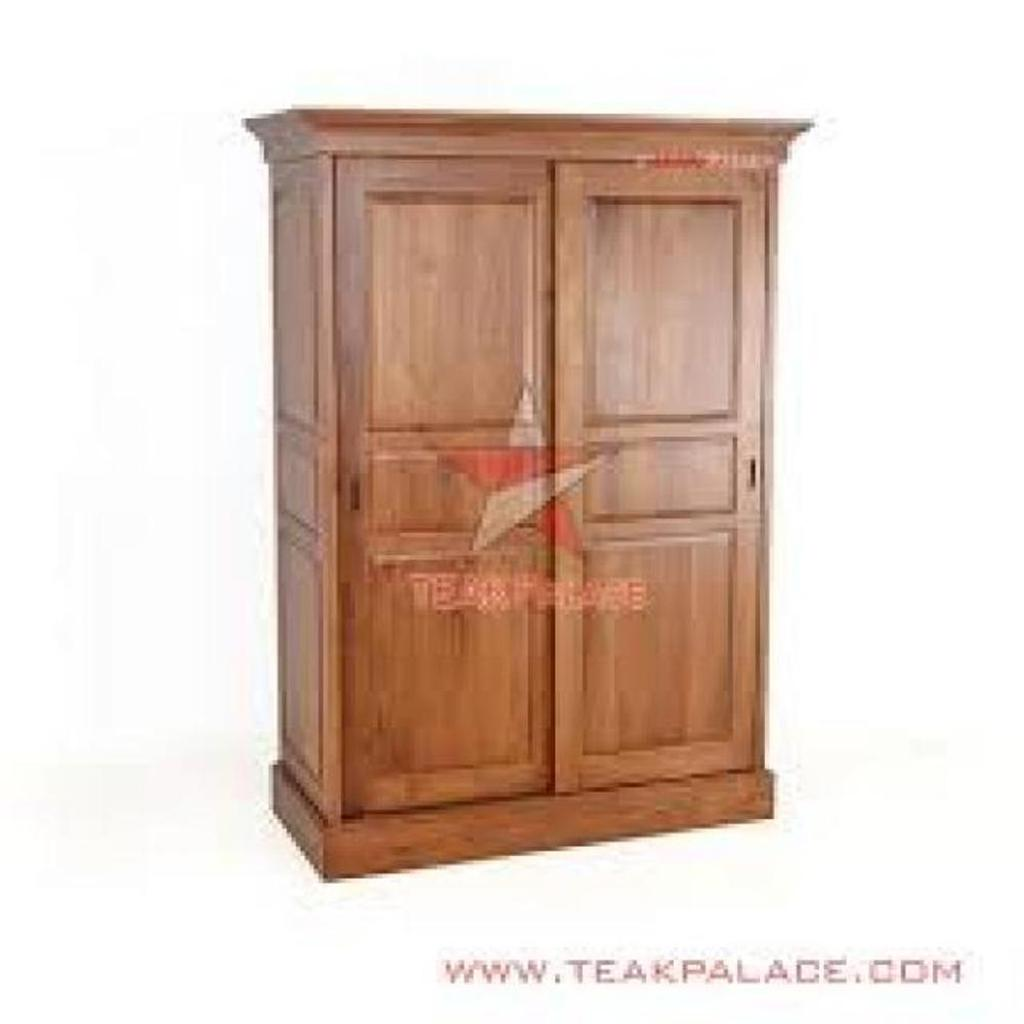cabinet: (246, 102, 816, 889)
